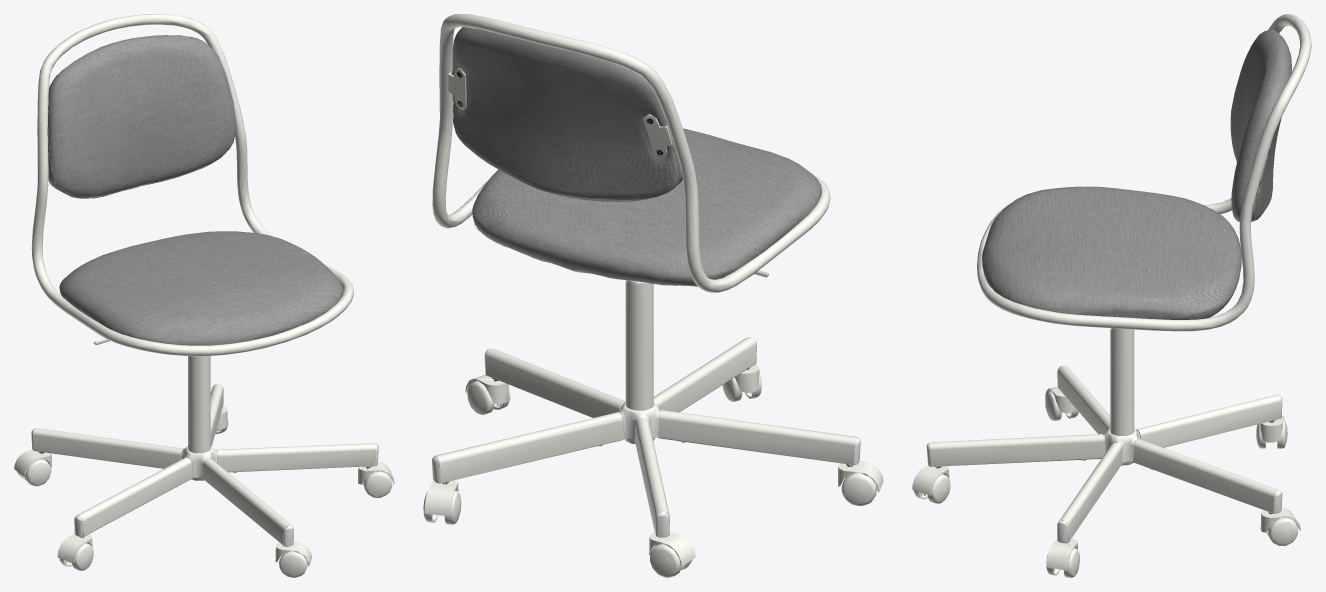
The model's file is 19 - ÖRFJÄLL Swivel chair - whiteVissle light grey.glb.
3 renders of one model, left to right at view 1: azimuth 30°, elevation 25°; view 2: azimuth 150°, elevation 25°; view 3: azimuth 270°, elevation 25°, orthographic. The views are drawn at different scales.
Parts seen in each view (by area): view 1: Mesh_0; view 2: Mesh_0; view 3: Mesh_0.
Part boxes in pixels (<box>): Mesh_0: <box>14,14,394,577</box>; Mesh_0: <box>423,14,883,577</box>; Mesh_0: <box>912,14,1311,577</box>.
Bounding box in the file's own units: 0.6823 × 0.8346 × 0.6599.
2 materials, 2 textured.
